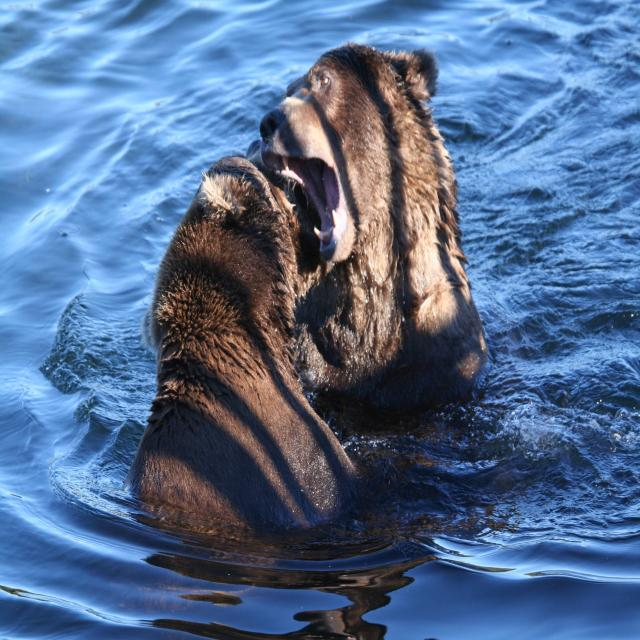bear face: (260, 44, 480, 366), (150, 158, 347, 512)
